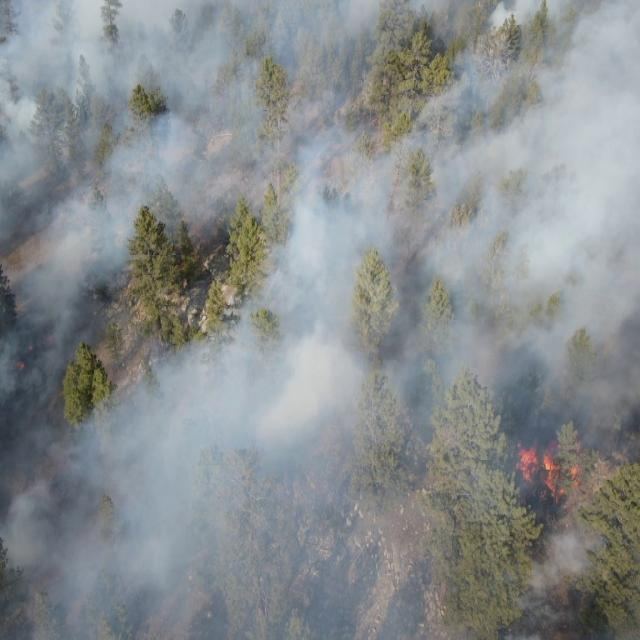fire: (507, 432, 591, 506), (12, 356, 28, 376), (42, 330, 57, 350), (372, 113, 388, 131)
smoke: (0, 1, 394, 640), (396, 0, 640, 449), (489, 524, 612, 640)
